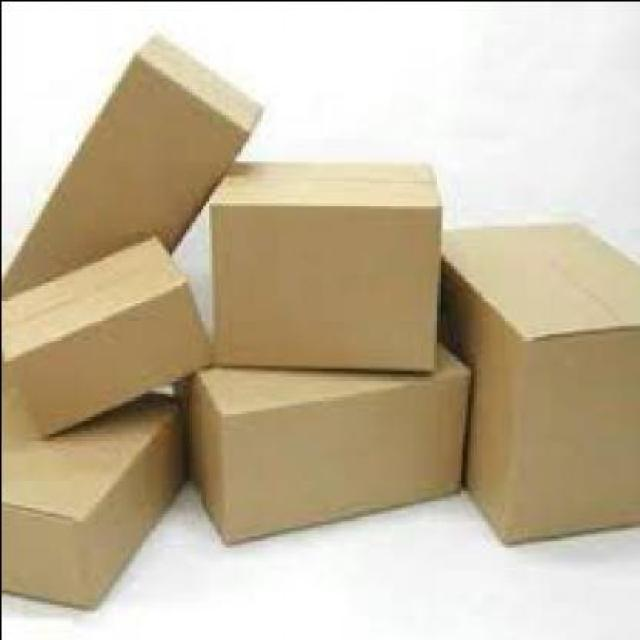CARDBOARD: (3, 26, 262, 300), (443, 215, 639, 548), (179, 331, 475, 543), (210, 148, 444, 367), (3, 228, 215, 435), (3, 382, 188, 606)
